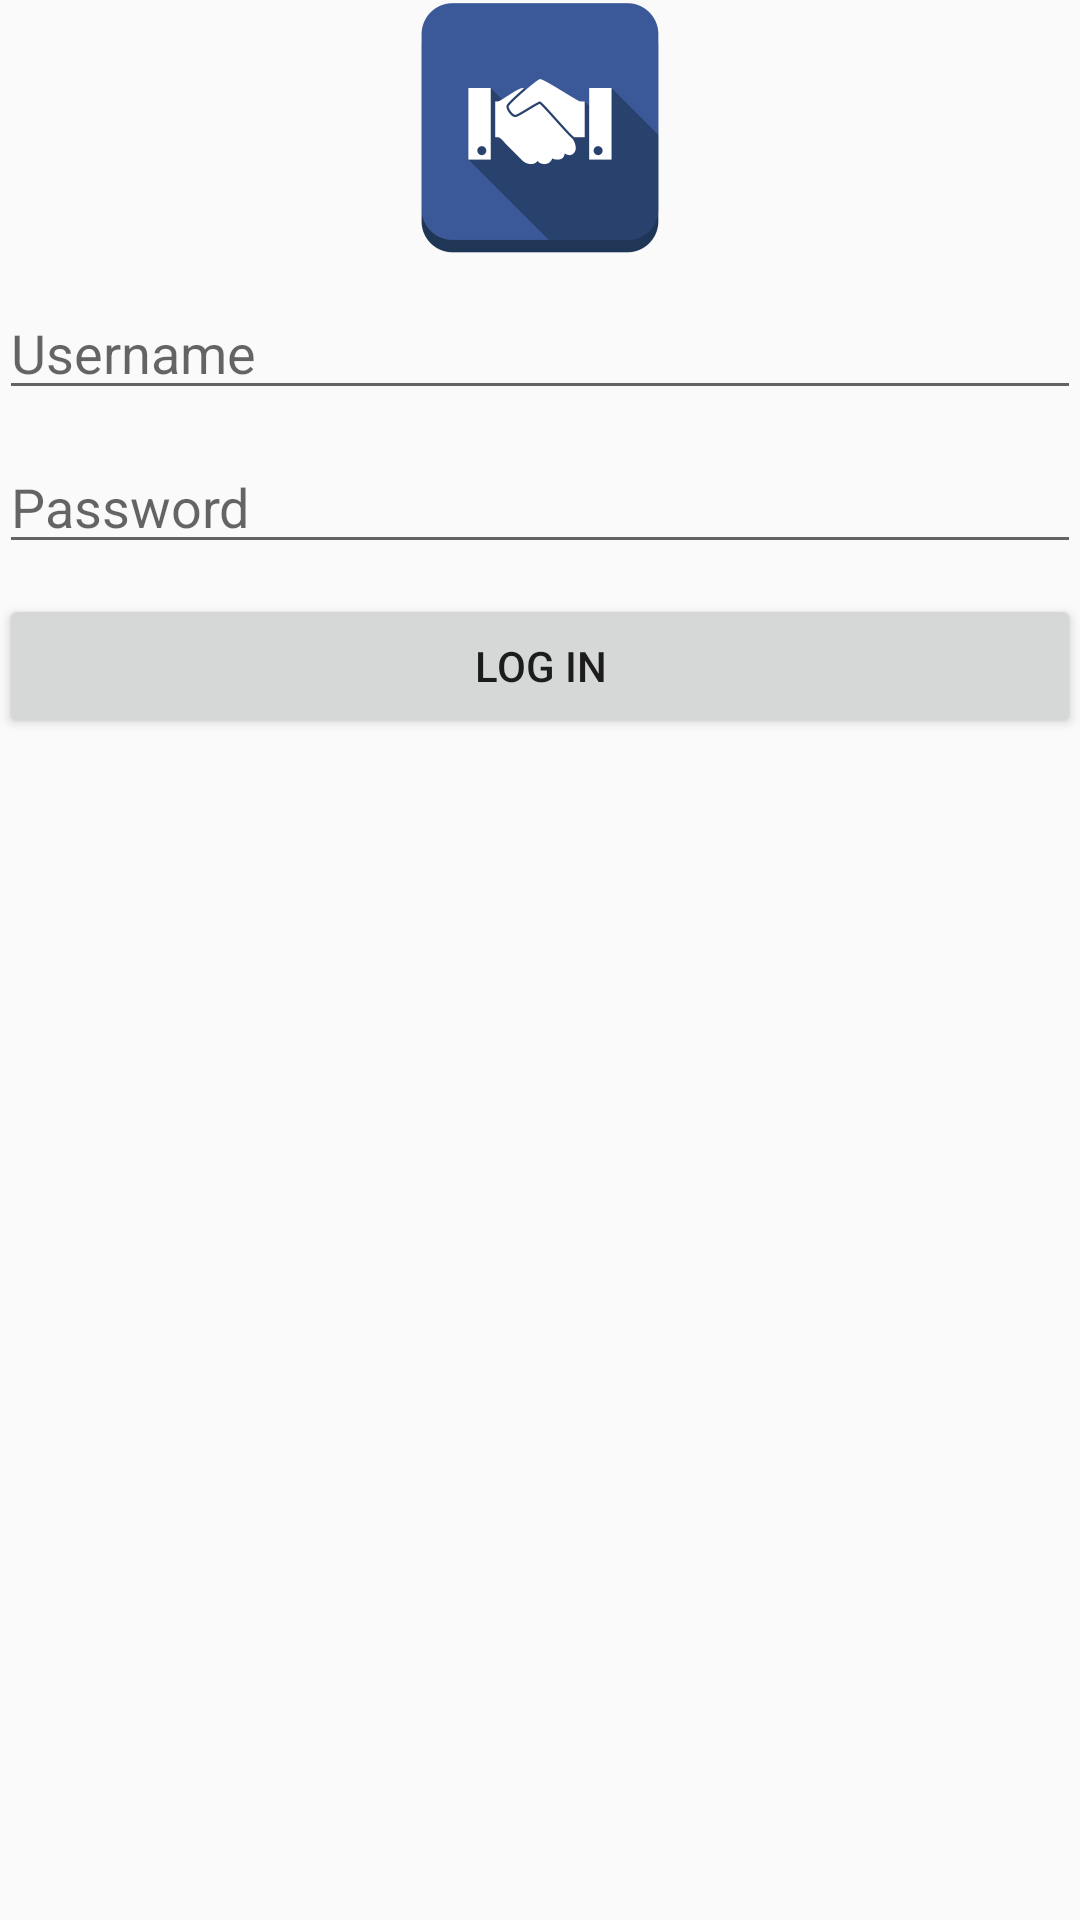

Icon click points for this 1080w x 1920h phone screenshot, format point (x, y):
handshake: point (540, 128)
